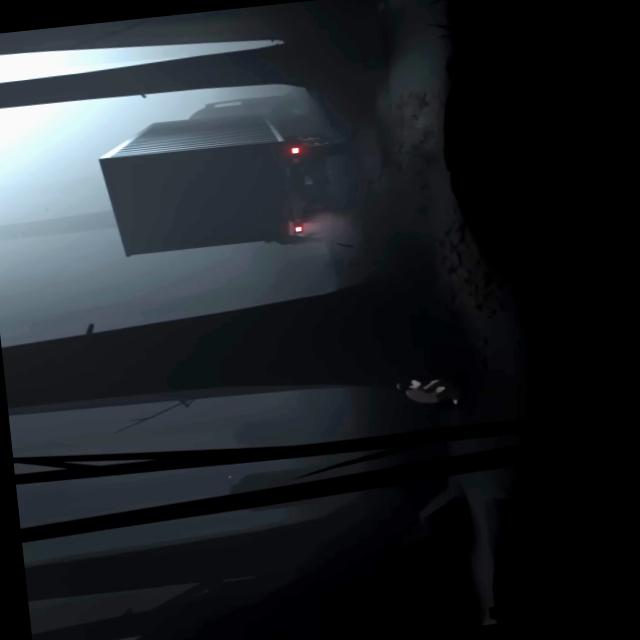boy: (394, 372, 462, 408)
